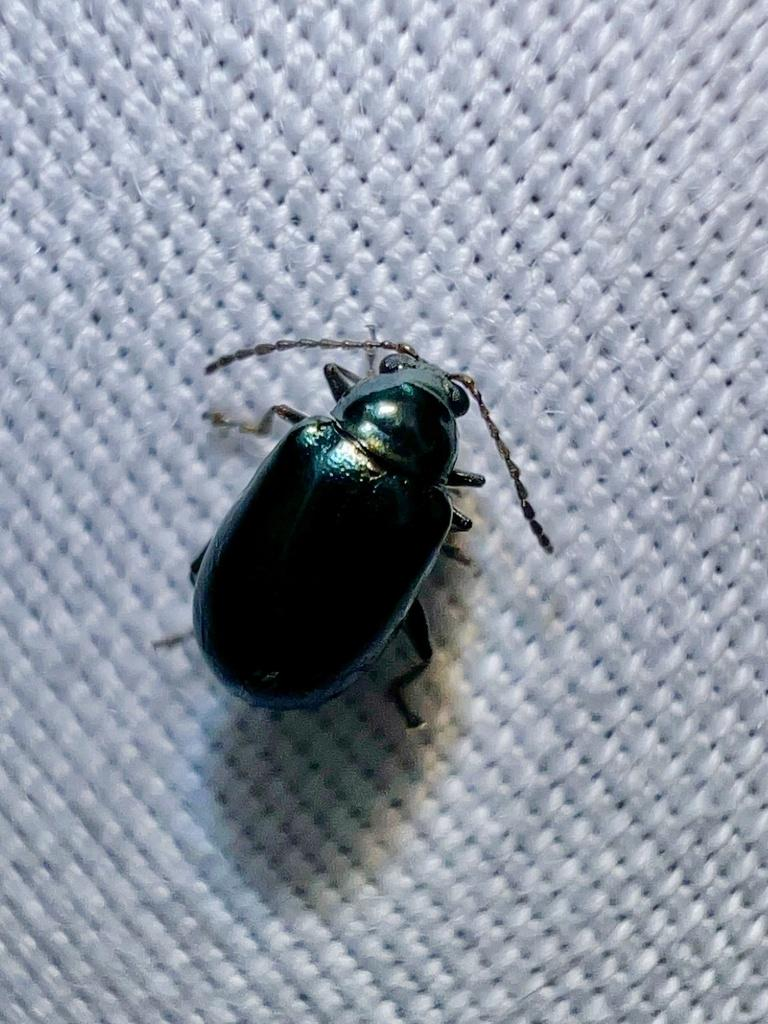flea_beetle: (105, 270, 636, 800)
